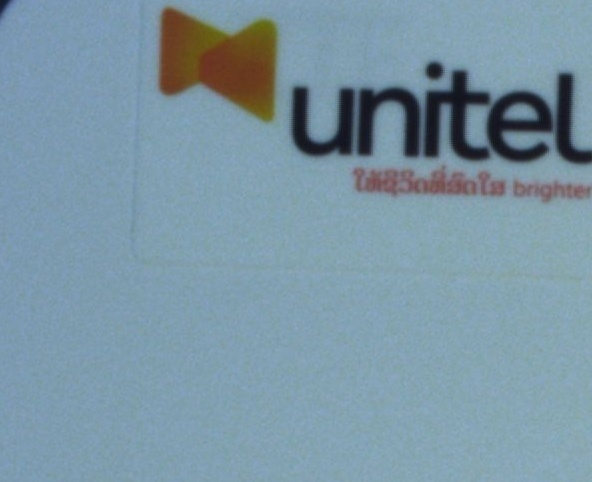BT_unitel: (158, 6, 590, 204)
